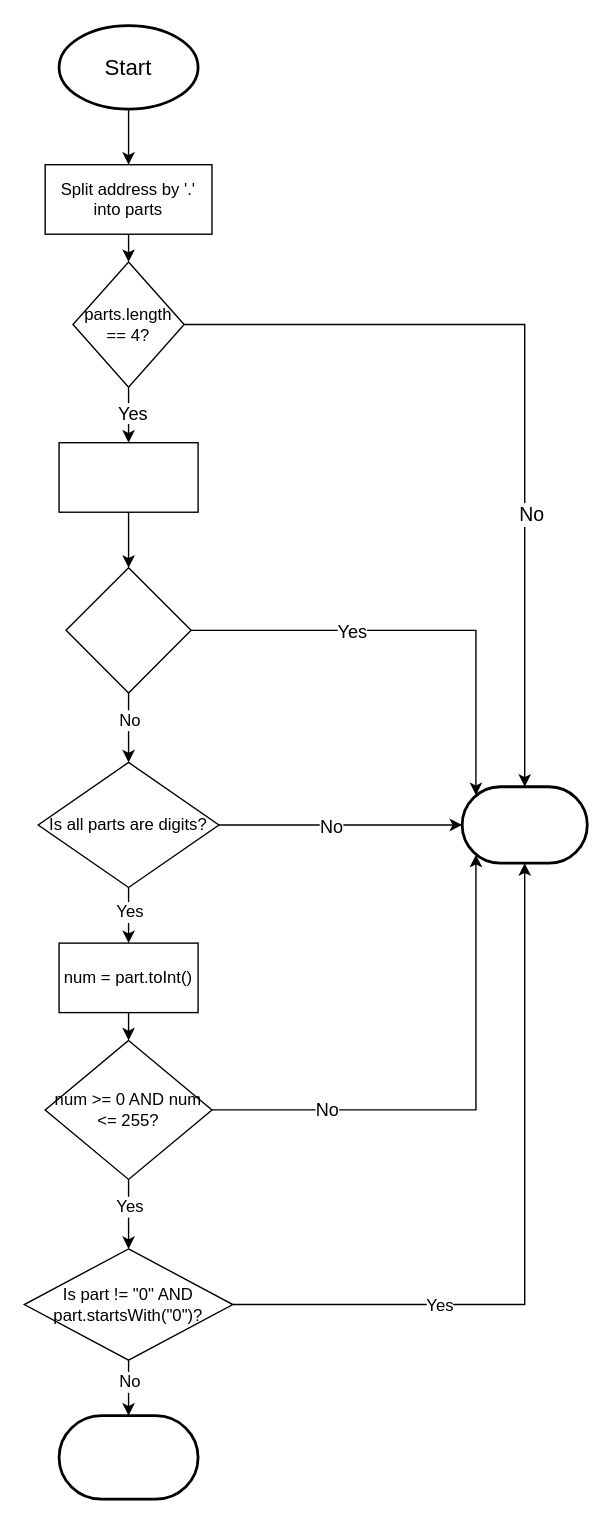
Image size: 613x1523. Some labels were removed from this diagram. The shapes that lost their labels are listed below. From the top down, each one's box as (x1, y1, x2, y2) in pixels, then its label:
(58, 441, 198, 512): For each part in parts
(65, 566, 191, 693): Part is empty?
(460, 785, 588, 864): Return False
(57, 1414, 199, 1500): Return True
